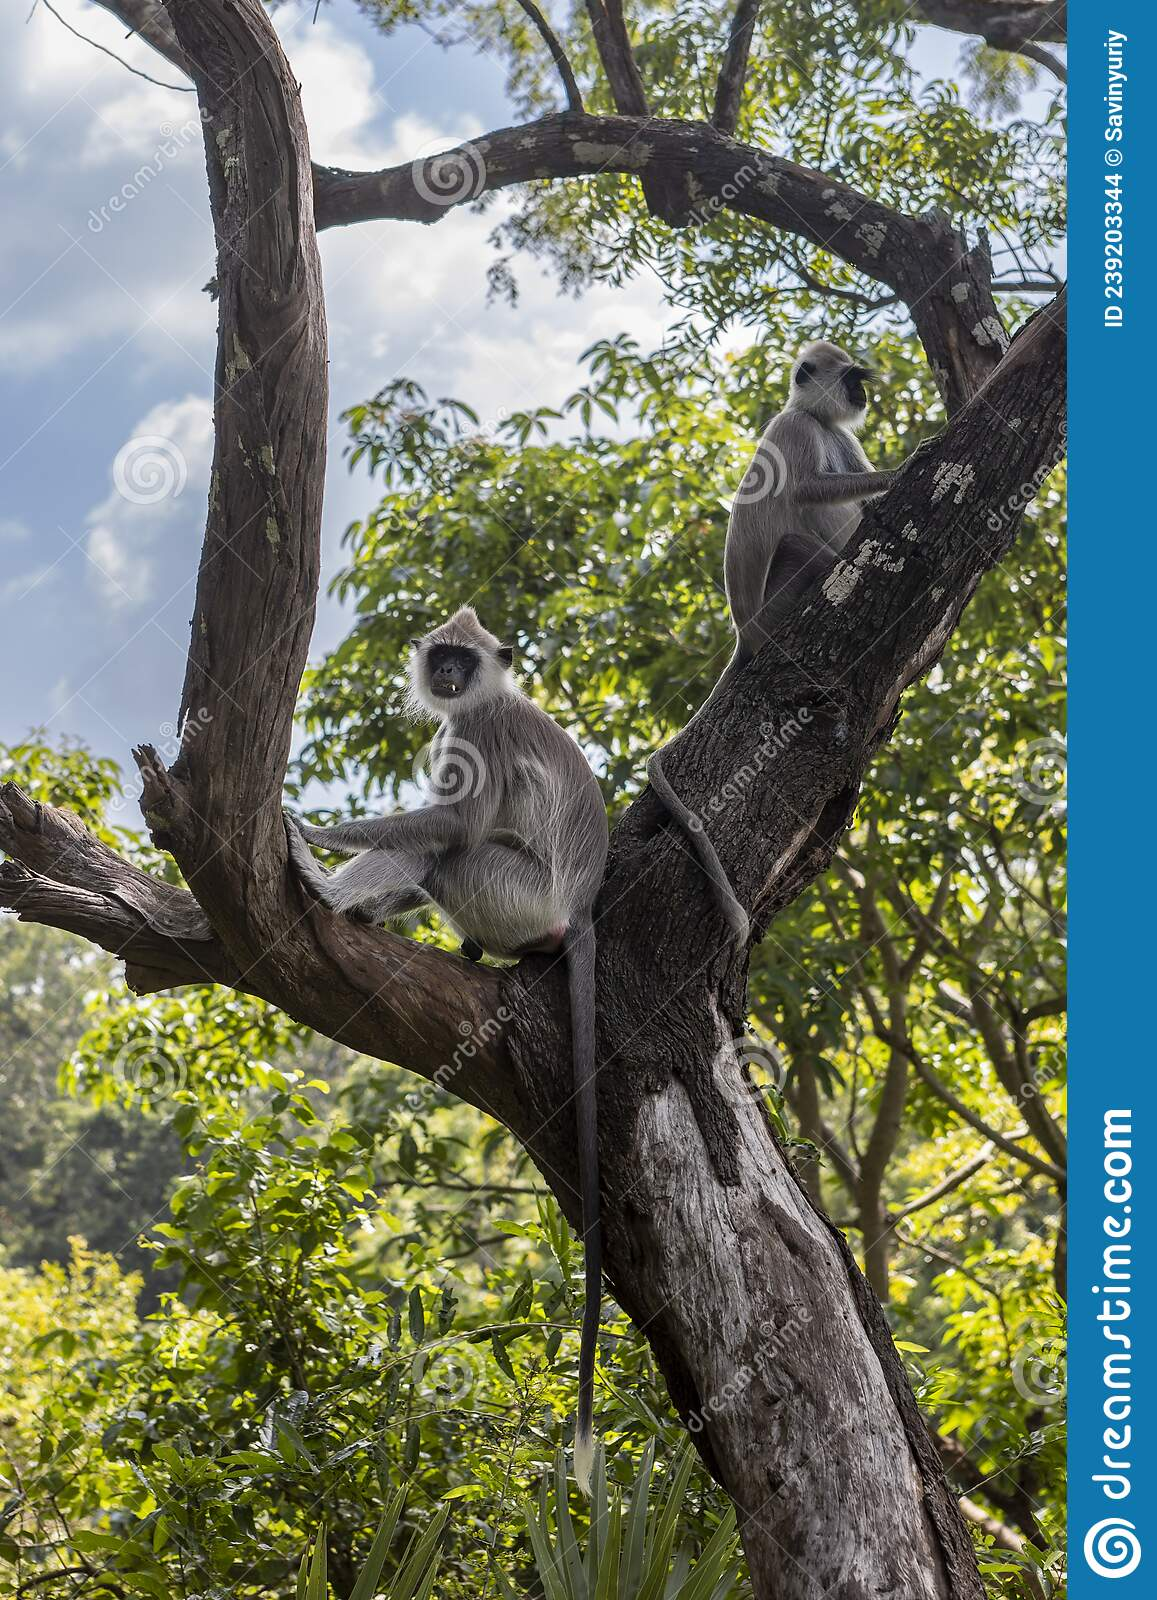Monkey: (317, 588, 643, 971), (710, 324, 930, 660)
